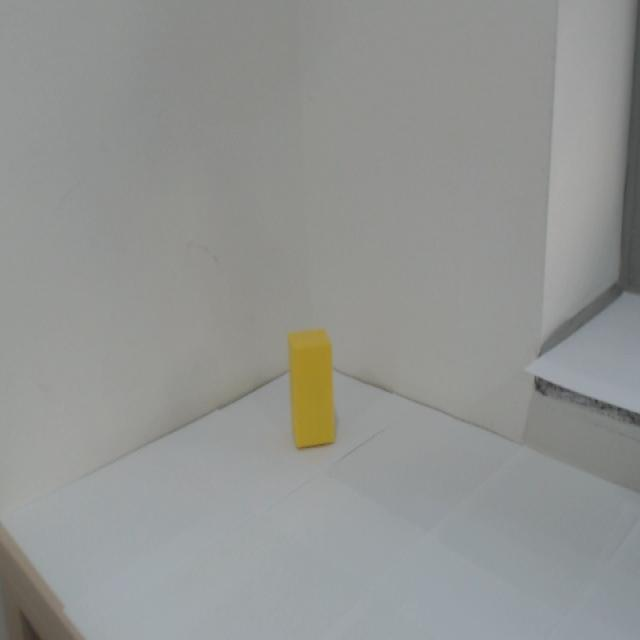cube: (281, 317, 345, 466)
